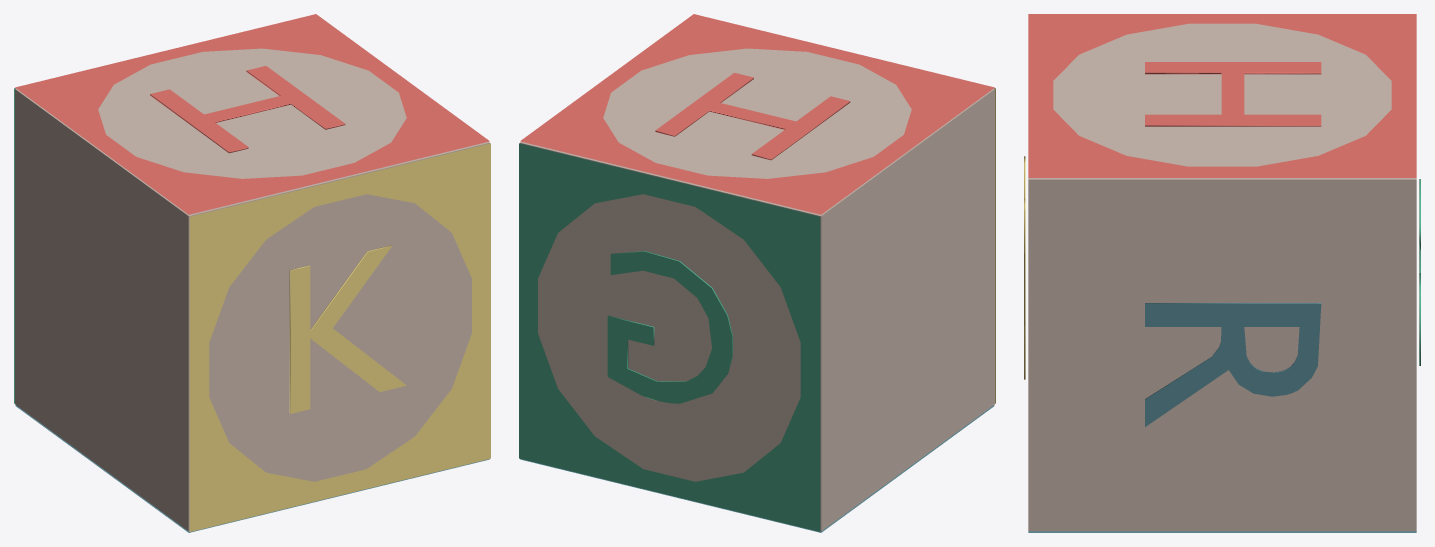
The picture shows the model from 3 angles, left to right: view 1: azimuth 30°, elevation 25°; view 2: azimuth 150°, elevation 25°; view 3: azimuth 270°, elevation 25°; orthographic projection. The views are drawn at different scales.
Parts seen in each view (by area): view 1: cube; view 2: cube; view 3: cube.
Boxes of the visible parts, box(x1,y1,x2,y2) form: cube: box(14, 14, 490, 532); cube: box(519, 14, 995, 532); cube: box(1024, 14, 1420, 532).
Bounding box in the file's own units: 0.0453 × 0.046 × 0.046.
